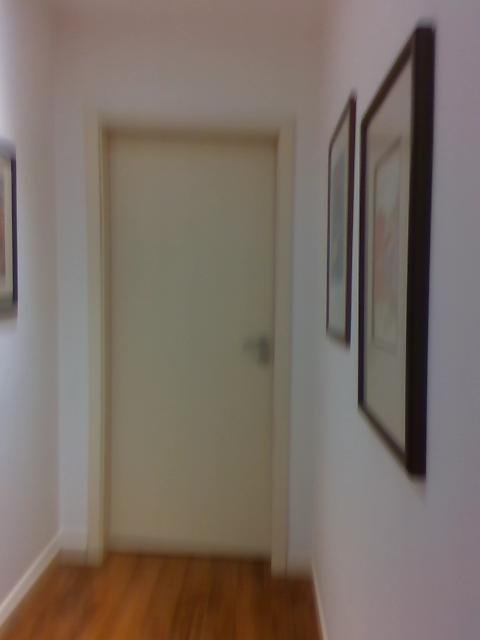door: (105, 135, 275, 556)
